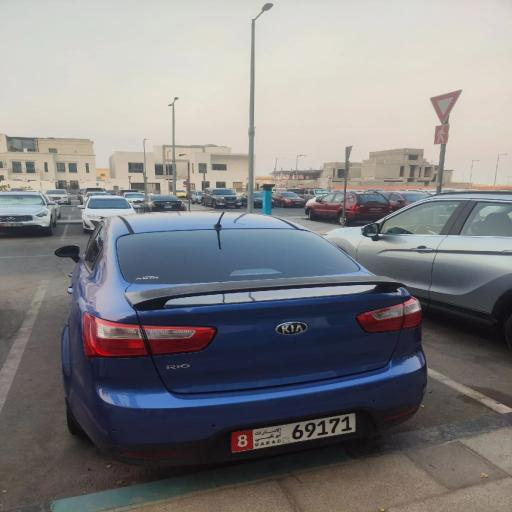license-plates: (231, 412, 356, 453), (0, 223, 22, 227), (369, 208, 382, 211)
